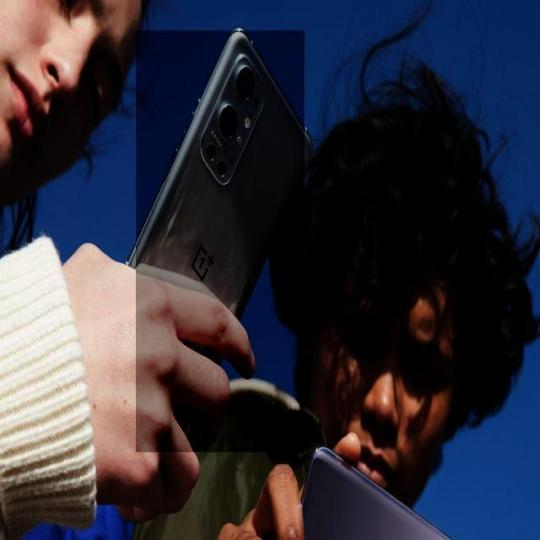phone: (123, 27, 316, 353), (279, 446, 462, 540)
